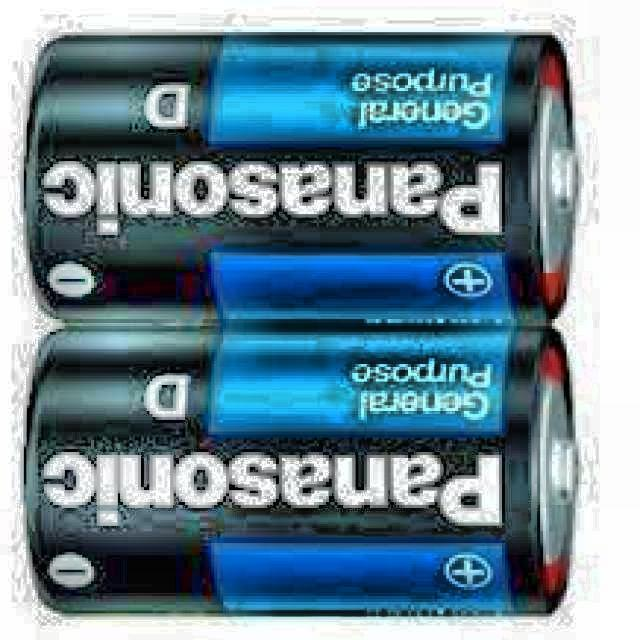battery: (26, 38, 578, 617), (26, 38, 578, 330), (26, 325, 578, 617)
